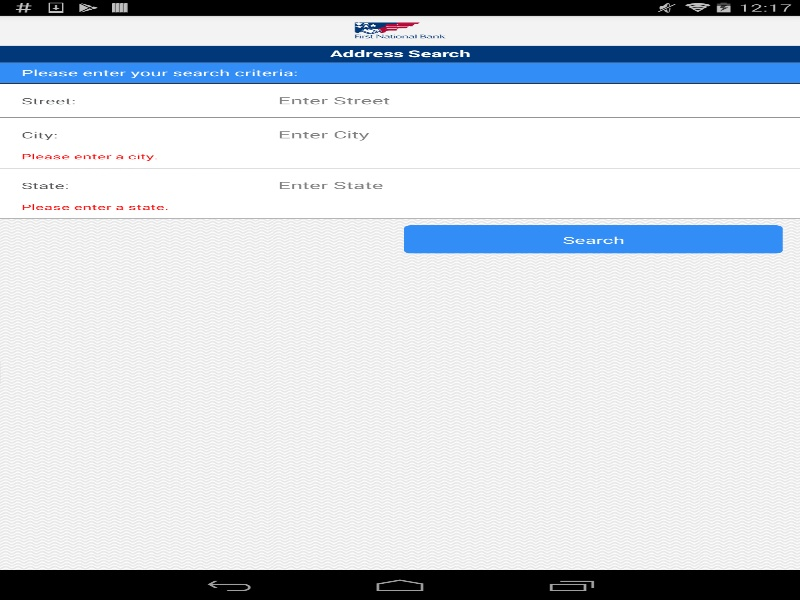Button: (400, 225, 786, 255)
Input: (278, 93, 778, 107), (278, 127, 778, 141), (278, 178, 778, 191)
